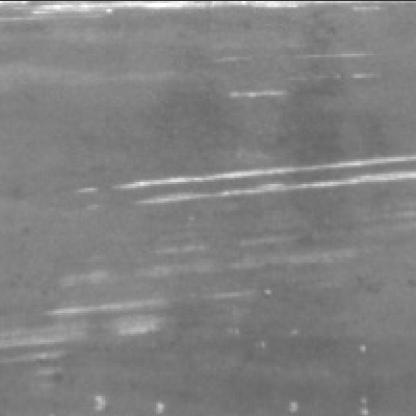scratches: (66, 152, 414, 206)
